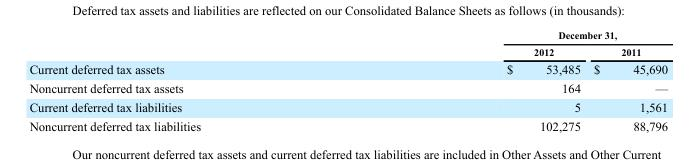table: (28, 29, 667, 132)
table column: (28, 29, 353, 132), (353, 29, 586, 132), (586, 29, 667, 132)
table column header: (28, 29, 667, 59)
table row: (28, 59, 667, 78), (28, 78, 667, 97), (28, 97, 667, 116), (28, 43, 667, 59), (28, 116, 667, 132), (28, 29, 667, 43)
table spanning cell: (353, 29, 667, 43)
